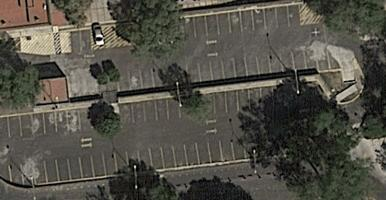parkingspot: (8, 135, 271, 189), (117, 48, 331, 99), (118, 85, 275, 126), (181, 3, 303, 41), (6, 106, 94, 139), (70, 29, 93, 53)
